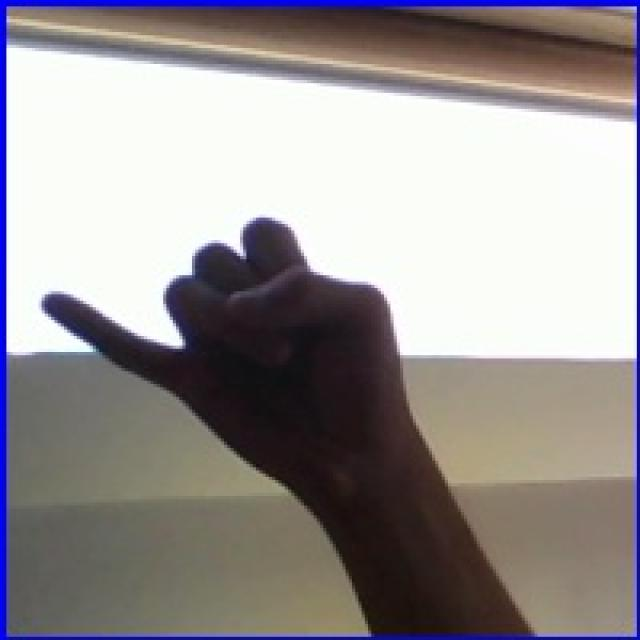J: (20, 156, 485, 505)
